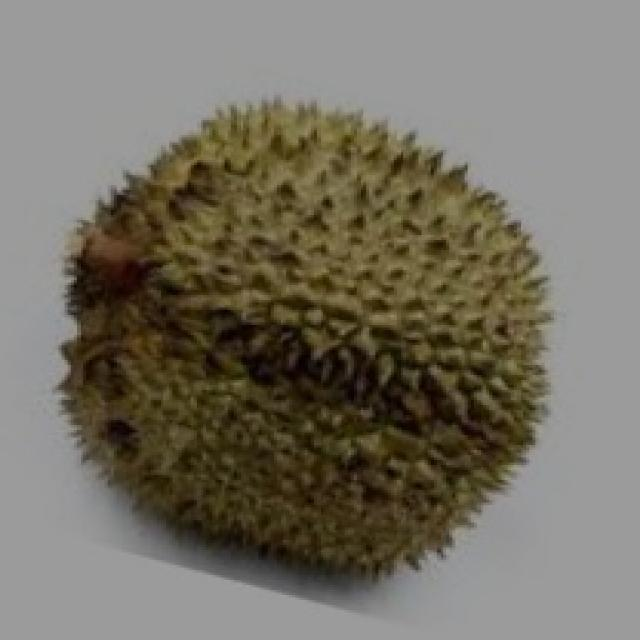fruit: (216, 225, 606, 630), (9, 232, 391, 602)
